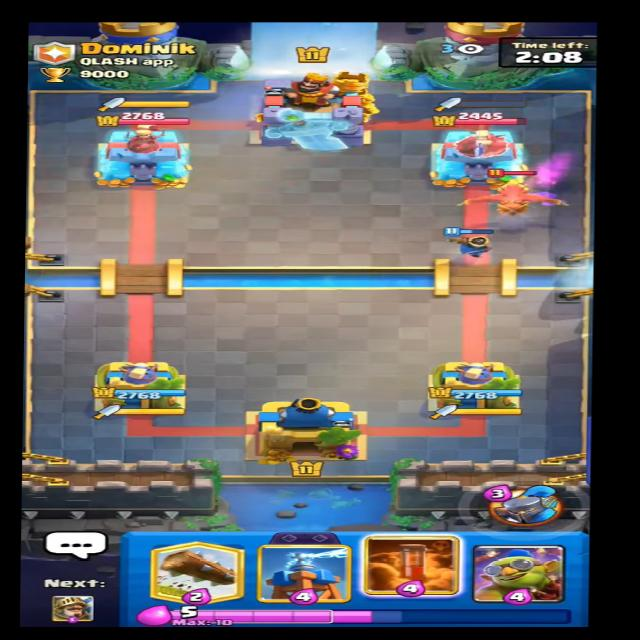Pheonix: (457, 174, 572, 217)
